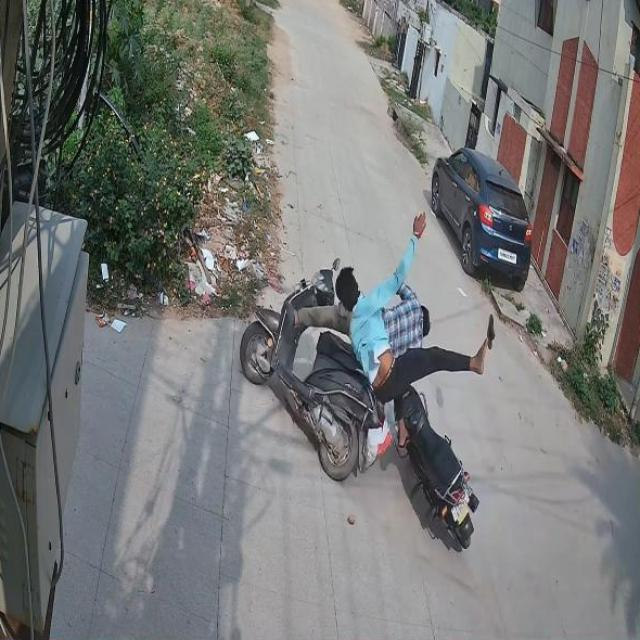accident: (248, 235, 488, 557)
